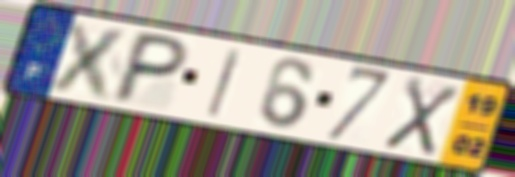6: (255, 56, 318, 133)
7: (322, 63, 397, 144)
I: (204, 45, 247, 120)
P: (106, 29, 194, 106)
X: (44, 18, 136, 104), (379, 73, 464, 159)
